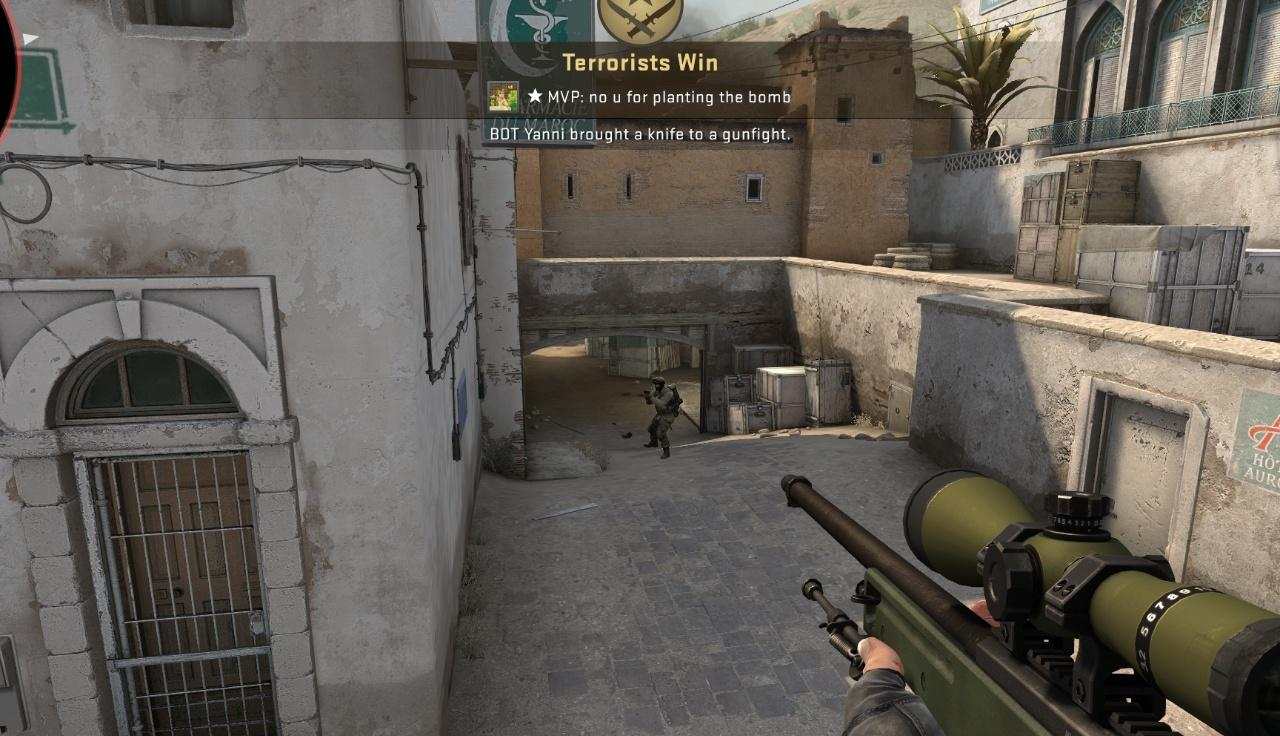ct: (644, 377, 675, 458)
cthead: (653, 377, 666, 391)
sniper: (781, 469, 1280, 736)
